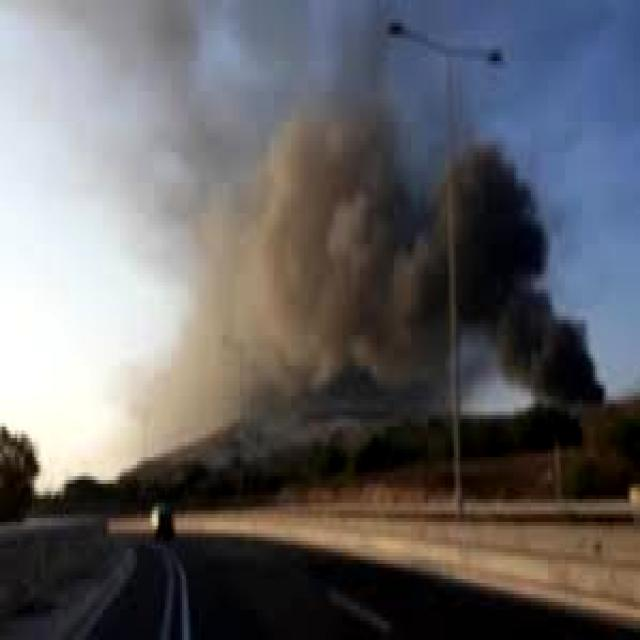no_helmet: (209, 108, 612, 438)
